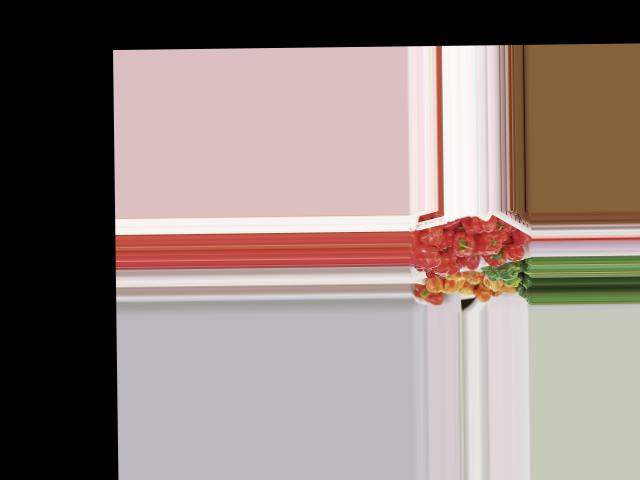bell_pepper: (461, 213, 497, 234)
